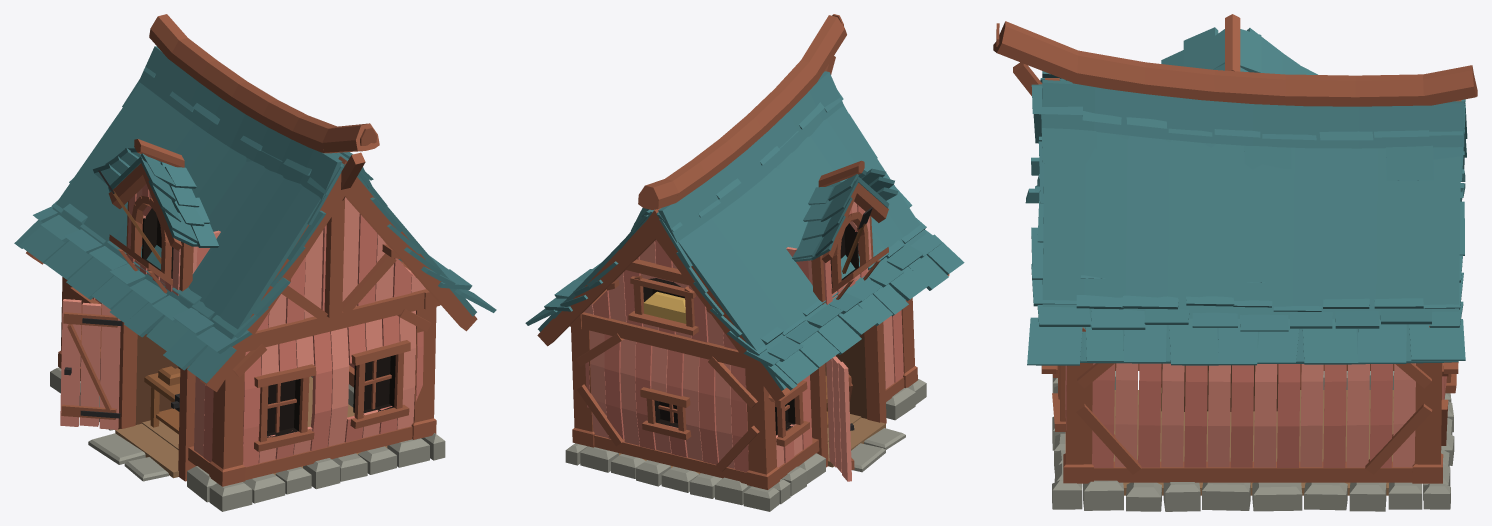
Rendered from shelter-complete.glb.
3 views of the same model, side by side, from view 1: azimuth 30°, elevation 25°; view 2: azimuth 150°, elevation 25°; view 3: azimuth 270°, elevation 25° (orthographic). The views are drawn at different scales.
Visible parts, largest first — view 1: roof_shingles, timber_frame, roof_timbers, plank_walls_dark, plank_walls, stone_footing, loft_trim, door_leaf, interior_shadow, floor, bench, interior (+2 smaller); view 2: roof_shingles, timber_frame, roof_timbers, plank_walls_dark, plank_walls, stone_footing, loft_trim, door_leaf, interior_shadow, interior, hay, floor; view 3: roof_shingles, roof_timbers, plank_walls_dark, plank_walls, timber_frame, stone_footing, floor, loft_trim.
Part boxes in pixels (left/top/right/bottom): roof_shingles: left=14, top=46, right=496, bottom=383; timber_frame: left=58, top=198, right=440, bottom=486; roof_timbers: left=26, top=14, right=477, bottom=391; plank_walls_dark: left=92, top=184, right=423, bottom=466; plank_walls: left=80, top=188, right=425, bottom=463; stone_footing: left=50, top=367, right=445, bottom=511; loft_trim: left=70, top=195, right=410, bottom=451; door_leaf: left=60, top=299, right=120, bottom=429; interior_shadow: left=142, top=208, right=395, bottom=437; floor: left=115, top=376, right=387, bottom=478; bench: left=112, top=190, right=180, bottom=434; interior: left=135, top=334, right=180, bottom=424; roof_shingles: left=525, top=71, right=964, bottom=390; timber_frame: left=569, top=216, right=917, bottom=489; roof_timbers: left=537, top=14, right=949, bottom=401; plank_walls_dark: left=585, top=204, right=903, bottom=472; plank_walls: left=584, top=201, right=894, bottom=468; stone_footing: left=565, top=379, right=926, bottom=511; loft_trim: left=628, top=212, right=888, bottom=446; door_leaf: left=826, top=355, right=851, bottom=481; interior_shadow: left=643, top=223, right=859, bottom=434; interior: left=776, top=333, right=866, bottom=435; hay: left=643, top=291, right=686, bottom=323; floor: left=619, top=414, right=885, bottom=473; roof_shingles: left=1025, top=27, right=1467, bottom=365; roof_timbers: left=993, top=14, right=1477, bottom=373; plank_walls_dark: left=1065, top=363, right=1446, bottom=467; plank_walls: left=1065, top=363, right=1442, bottom=467; timber_frame: left=1063, top=326, right=1448, bottom=483; stone_footing: left=1052, top=371, right=1454, bottom=511; floor: left=1113, top=387, right=1393, bottom=495; loft_trim: left=1052, top=365, right=1456, bottom=431.
Bounding box in the file's own units: 5.58 × 6.52 × 6.66.
